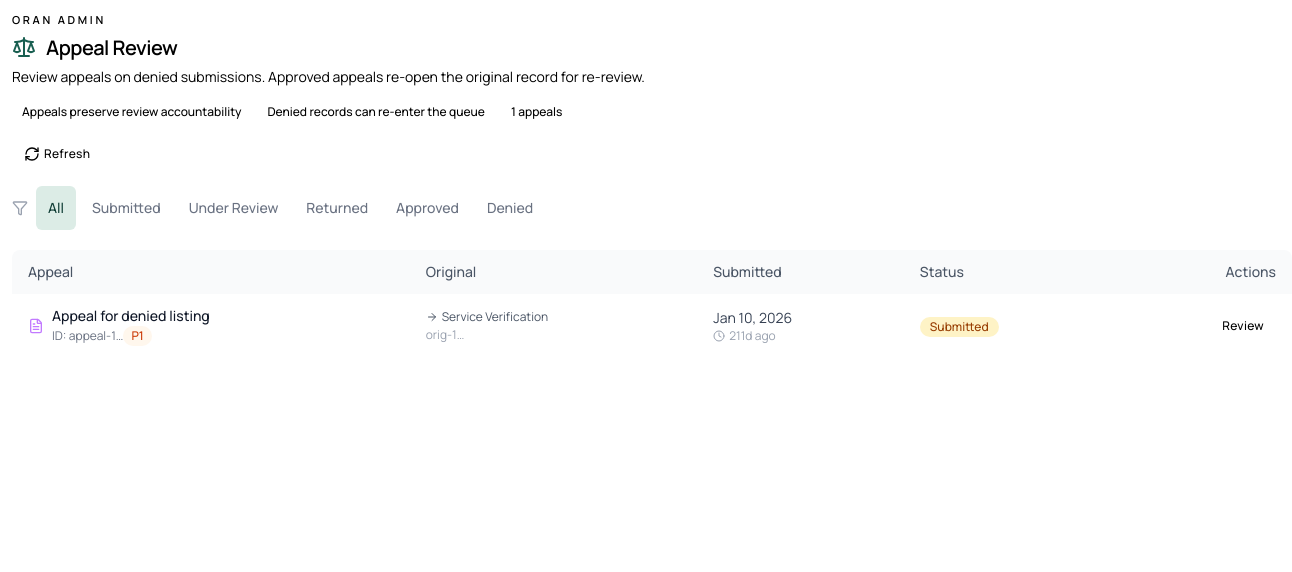
Test: oran admin appeals page › submits an approval decision and refreshes list data
The width and height of the screenshot is (1292, 572).
Expected: the text "Appeal for denied listing" is shown, [52,306,210,326]
Click the button "Review" at (1243, 326), box [1210,310,1276,342]
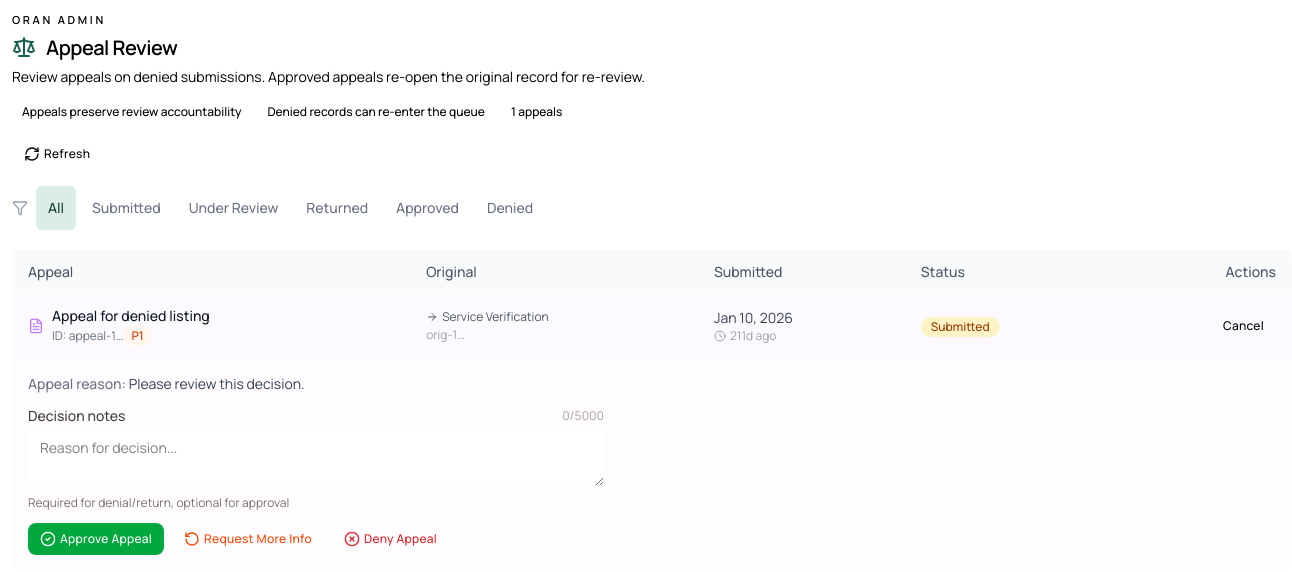
Click the button "Approve Appeal" at (96, 539), box [28,523,164,555]
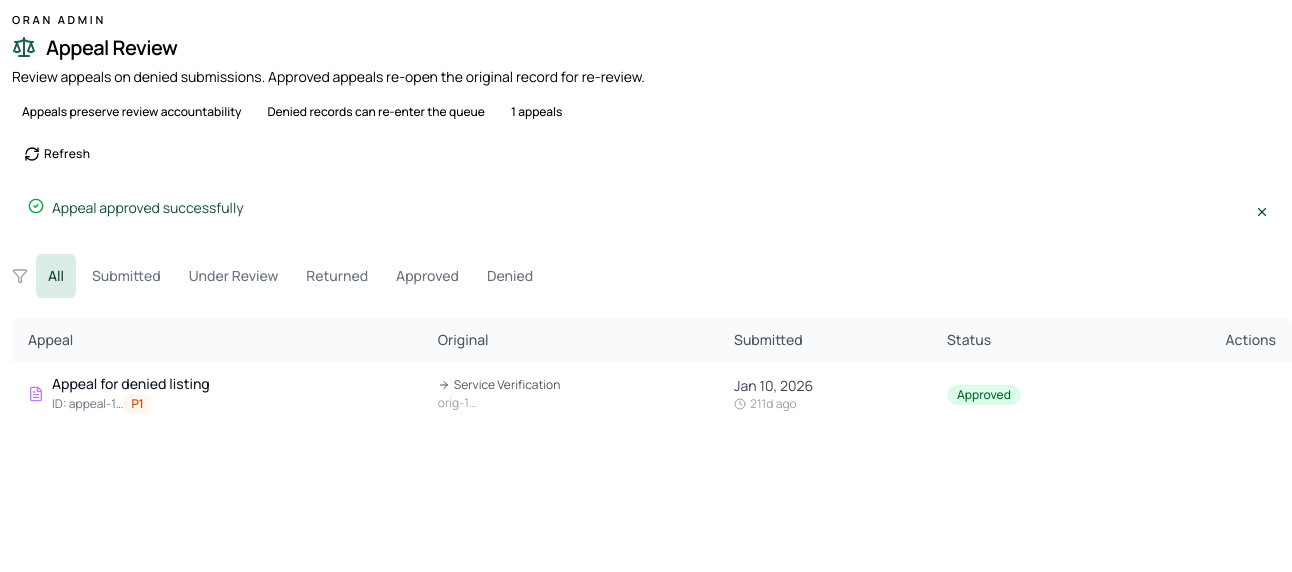
Expected: the message reads "Appeal approved successfully", [52,198,244,217]
